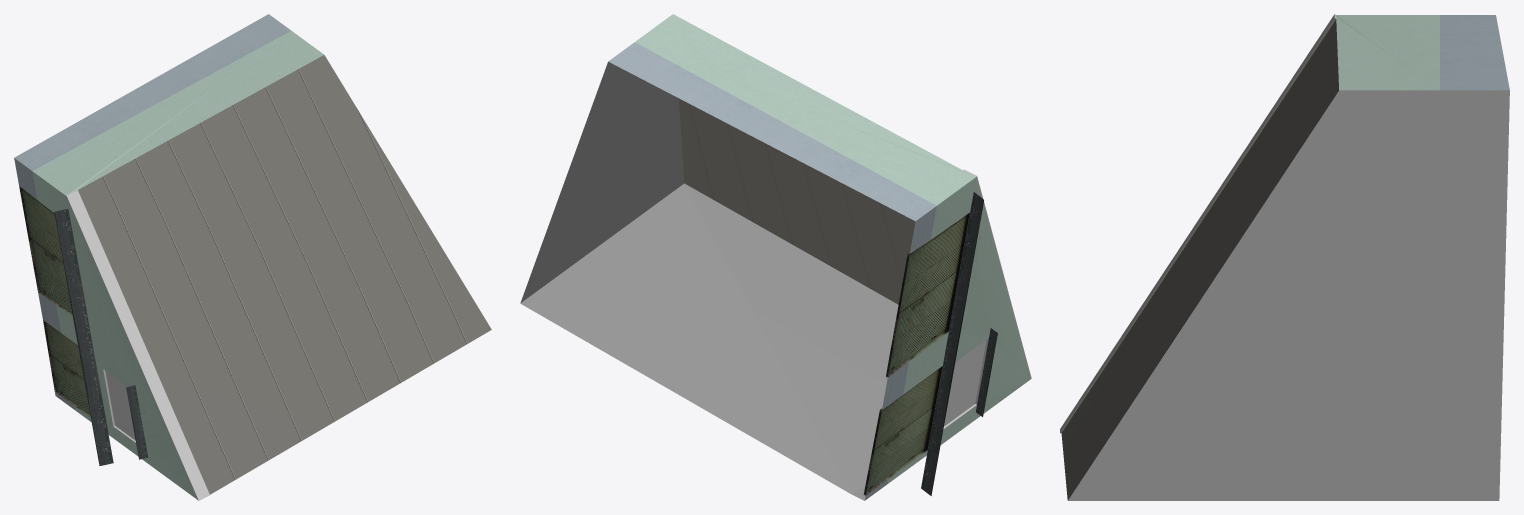
Rendered from Kiriku-6_3.obj.
3 renders of one model, left to right at view 1: azimuth 30°, elevation 25°; view 2: azimuth 150°, elevation 25°; view 3: azimuth 270°, elevation 25°, orthographic. The views are drawn at different scales.
Visible parts, largest first — view 1: Kiriku_6_3; view 2: Kiriku_6_3; view 3: Kiriku_6_3.
Part boxes in pixels (x1,y1,x2,y2): Kiriku_6_3: (14,14,491,500); Kiriku_6_3: (520,14,1031,500); Kiriku_6_3: (1060,14,1509,500).
Bounding box in the file's own units: 9.59 × 9.45 × 7.02.
